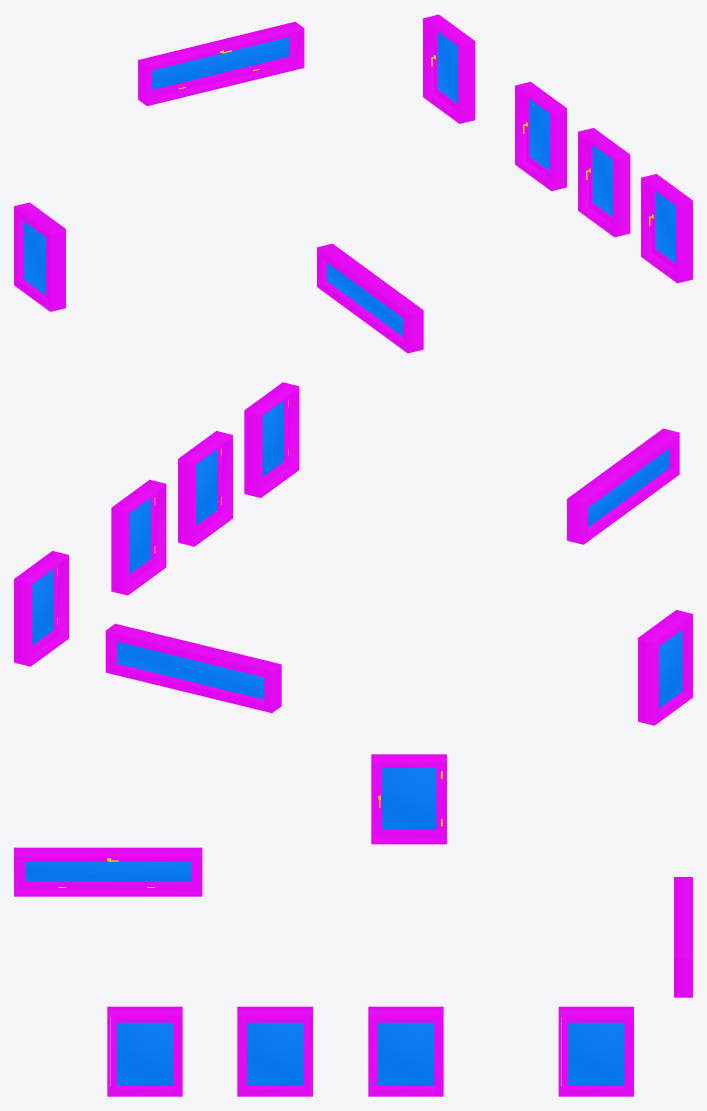
File: Windows.fbx
3 renders of one model, top to bottom at view 1: azimuth 30°, elevation 25°; view 2: azimuth 150°, elevation 25°; view 3: azimuth 270°, elevation 25°, orthographic. The views are drawn at different scales.
Visible parts, largest first — view 1: handle; view 2: handle; view 3: handle.
Part boxes in pixels (<box>): handle: <box>14,14,692,353</box>; handle: <box>14,382,692,725</box>; handle: <box>14,754,692,1096</box>.
Bounding box in the file's own units: 818 × 120 × 901.
